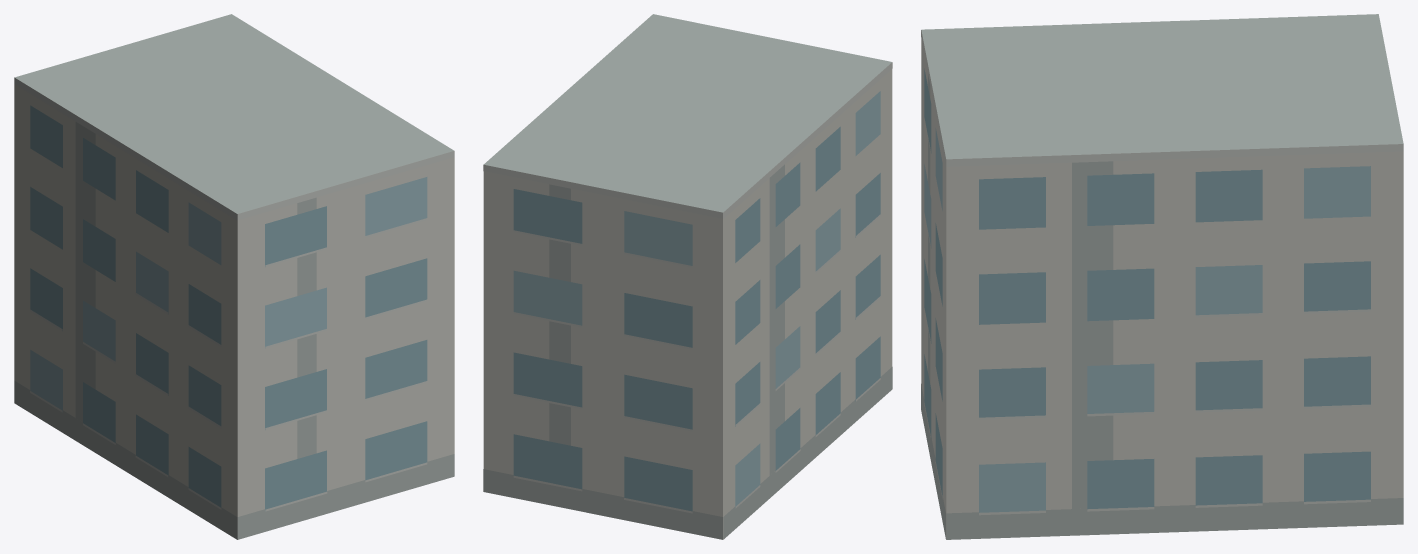
The model's file is residential-22928344-6e7a-4cc6-8fb7-2ed901ac92b1.glb.
The picture shows the model from 3 angles, left to right: view 1: azimuth 30°, elevation 25°; view 2: azimuth 150°, elevation 25°; view 3: azimuth 270°, elevation 25°; orthographic projection. The views are drawn at different scales.
Parts seen in each view (by area): view 1: residential-22928344-6e7a-4cc6-8fb7-2ed901ac92b1.tmp; view 2: residential-22928344-6e7a-4cc6-8fb7-2ed901ac92b1.tmp; view 3: residential-22928344-6e7a-4cc6-8fb7-2ed901ac92b1.tmp.
Part boxes in pixels (box(x1,y1,x2,y2)): residential-22928344-6e7a-4cc6-8fb7-2ed901ac92b1.tmp: box(14, 14, 454, 539); residential-22928344-6e7a-4cc6-8fb7-2ed901ac92b1.tmp: box(483, 14, 892, 539); residential-22928344-6e7a-4cc6-8fb7-2ed901ac92b1.tmp: box(921, 14, 1403, 539).
Bounding box in the file's own units: 10 × 12.2 × 14.03.
